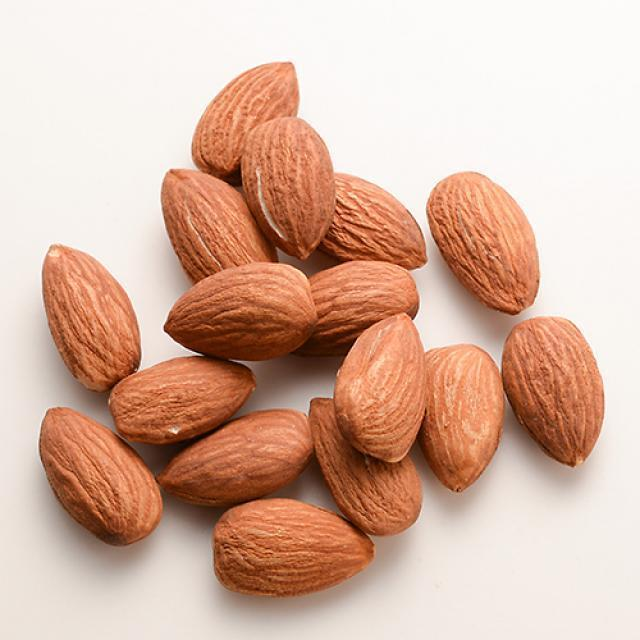almond: (42, 405, 160, 547), (310, 393, 425, 537), (428, 169, 540, 314), (500, 315, 605, 468), (210, 503, 375, 600), (153, 405, 315, 502), (38, 238, 140, 390), (163, 167, 277, 300), (330, 312, 430, 463), (165, 260, 313, 362), (112, 355, 258, 452), (242, 117, 340, 257), (297, 257, 427, 362), (195, 55, 300, 178), (420, 339, 503, 494), (313, 173, 430, 272)
